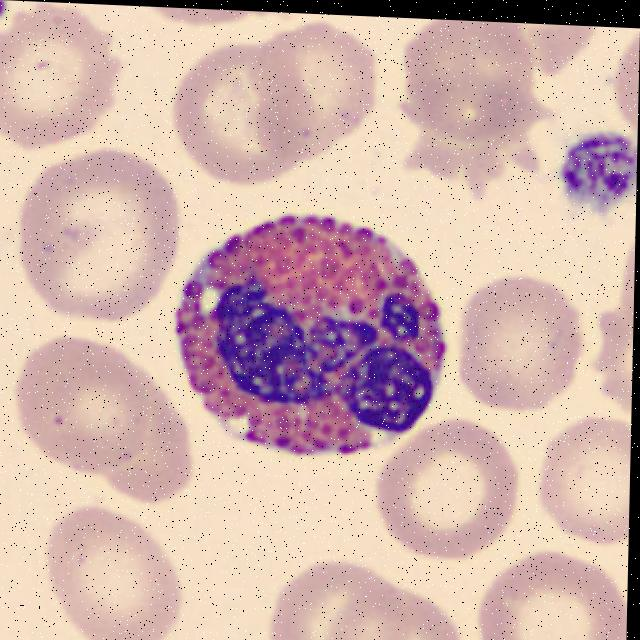eosinophil: (171, 213, 457, 463)
platelets: (560, 129, 638, 222)
rbc: (386, 17, 548, 193), (17, 149, 177, 323), (163, 44, 318, 197), (38, 502, 189, 640), (376, 423, 516, 564), (0, 0, 127, 154), (15, 333, 149, 473), (453, 272, 584, 415), (251, 31, 381, 161), (257, 546, 415, 640), (471, 551, 628, 640), (534, 407, 631, 548), (86, 382, 199, 502), (319, 578, 472, 640), (593, 241, 635, 424), (128, 6, 275, 34), (605, 28, 640, 138)
